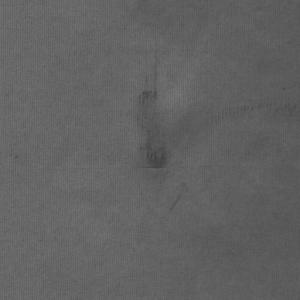Stain: (128, 40, 300, 216)
